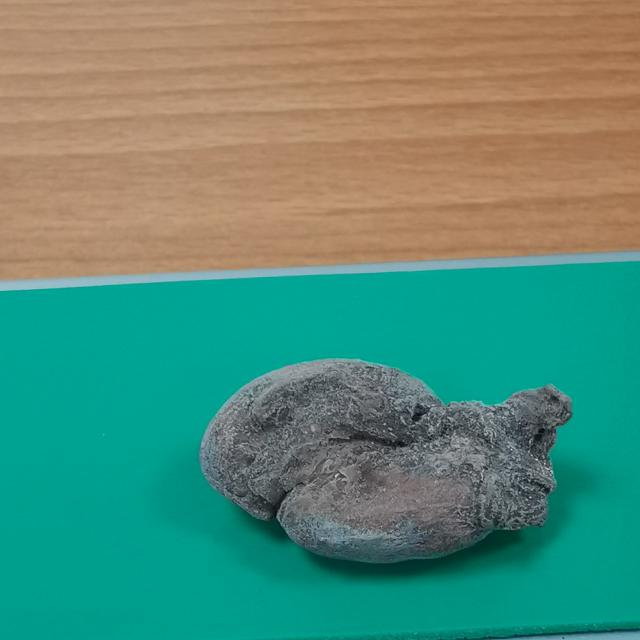Agglomerated_cocoabeans: (128, 324, 640, 617)
